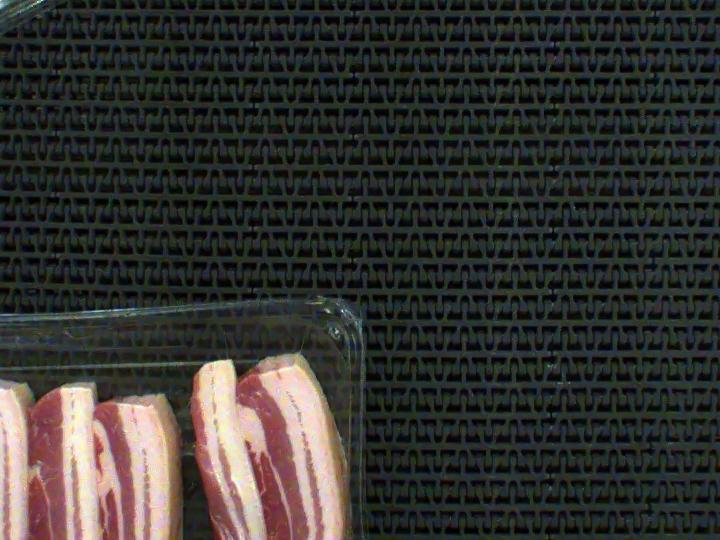loose-meat: (196, 341, 364, 540)
